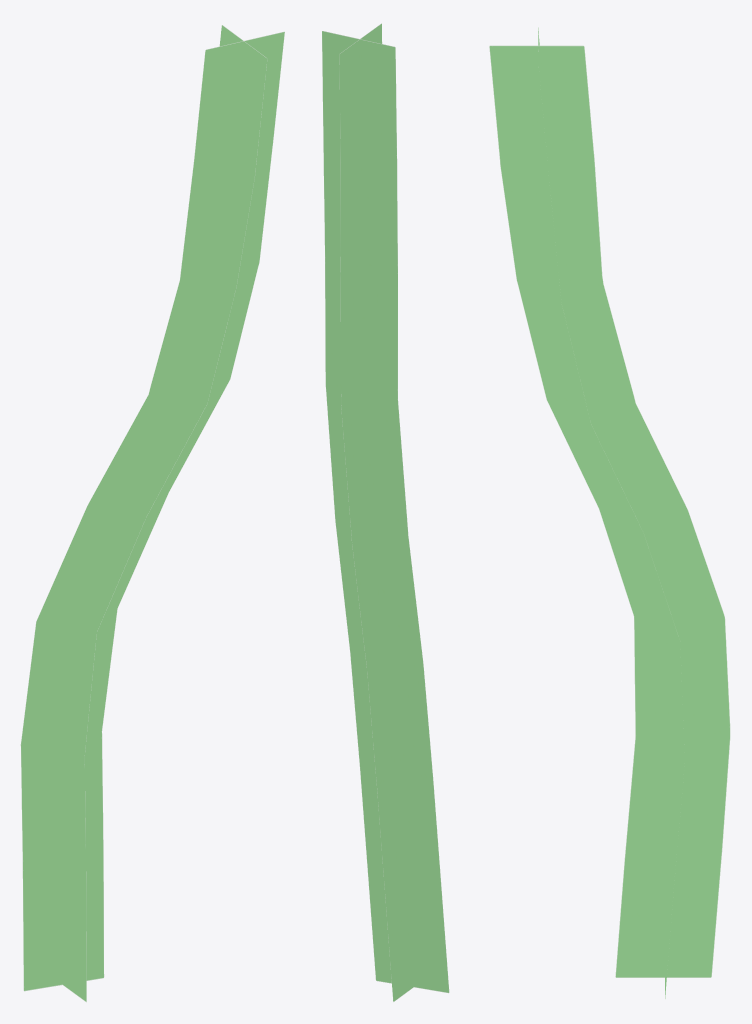
Rendered from TalloPlants_3.fbx.
3 views of the same model, side by side, from view 1: azimuth 30°, elevation 25°; view 2: azimuth 150°, elevation 25°; view 3: azimuth 270°, elevation 25° (orthographic). The views are drawn at different scales.
Visible parts, largest first — view 1: TalloPlants_3; view 2: TalloPlants_3; view 3: TalloPlants_3.
Boxes of the visible parts, x1,y1,x2,y2 form: TalloPlants_3: [20, 25, 284, 1002]; TalloPlants_3: [322, 23, 449, 1001]; TalloPlants_3: [489, 27, 730, 998].
Bounding box in the file's own units: 30.57 × 135 × 30.8.
